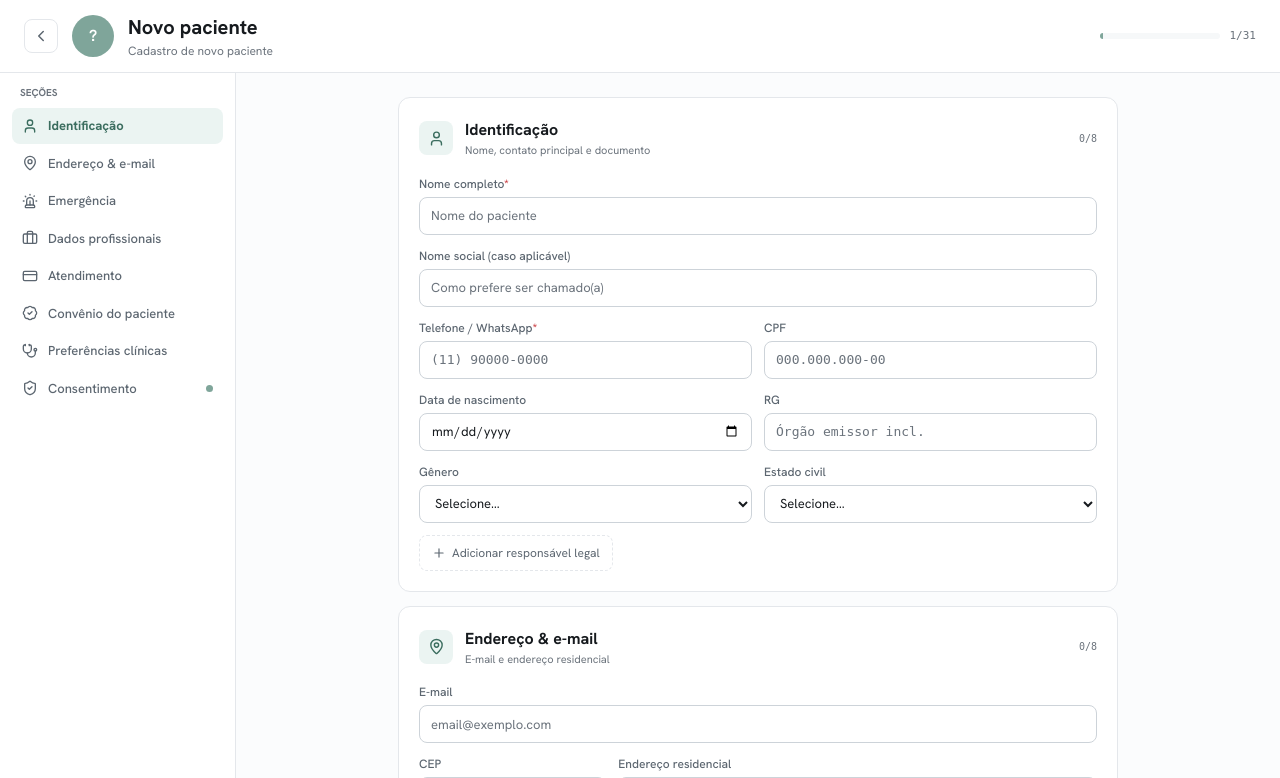
Test: PatientForm — novo › a ficha (hidden) reflete nome e os defaults (particular, sem consentimento)
In the field with placeholder "Nome do paciente": [758, 216] box [419, 196, 1097, 234], type "Mariana"
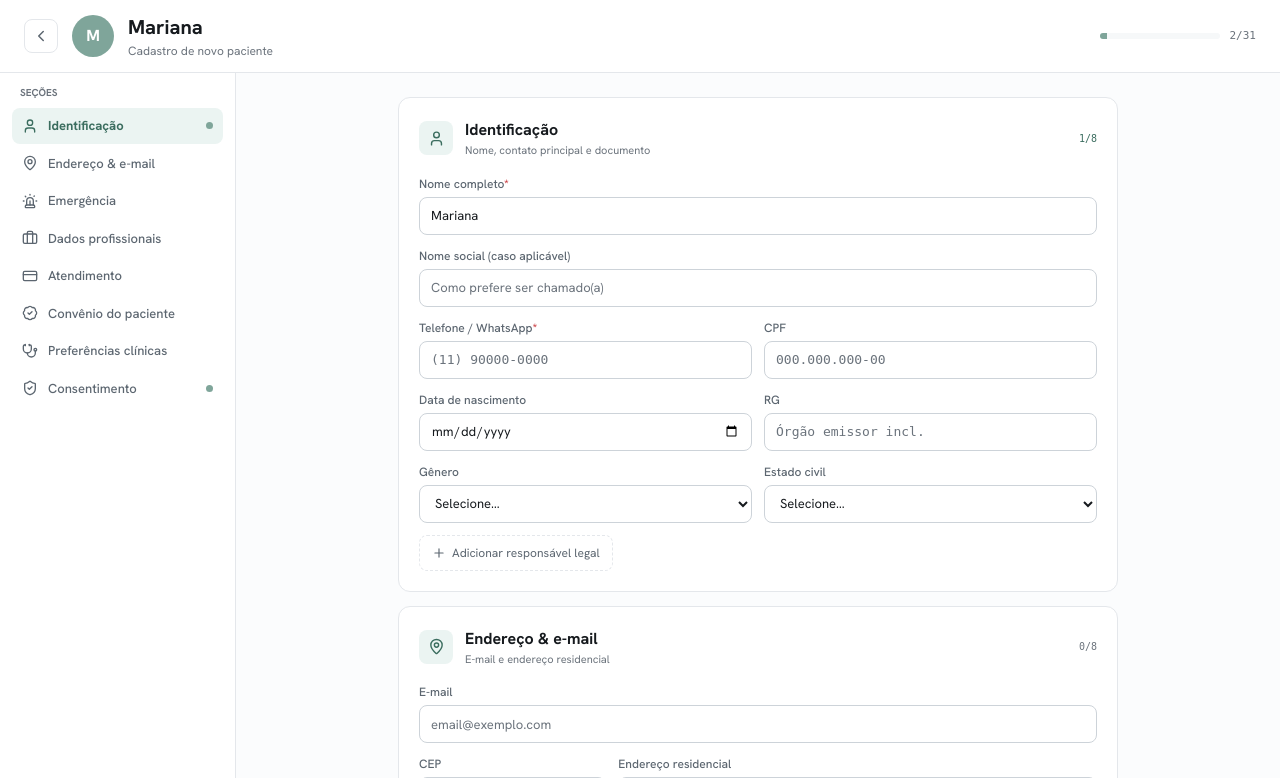
Expected: the text "Mariana" is shown, [128, 14, 203, 40]
